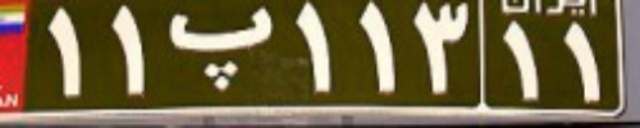1: (44, 6, 88, 98), (293, 0, 336, 93), (355, 1, 395, 93), (108, 3, 147, 95), (560, 20, 602, 102), (500, 20, 539, 102)
3: (410, 1, 474, 94)
pe: (167, 5, 275, 93)
